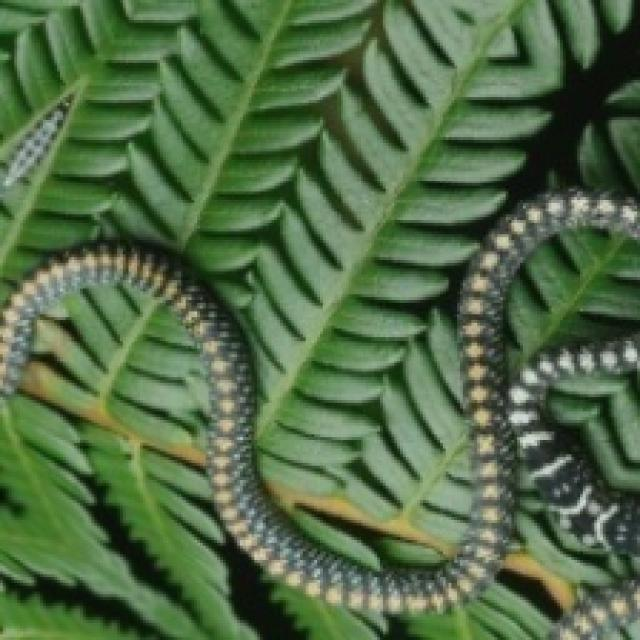paradise tree snake: (0, 189, 637, 617)
